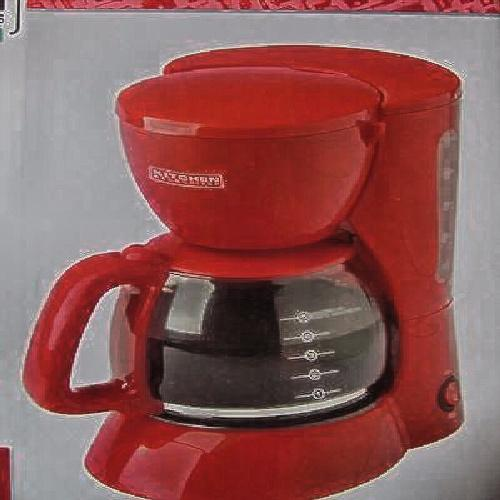coffee_maker: (73, 48, 459, 479)
